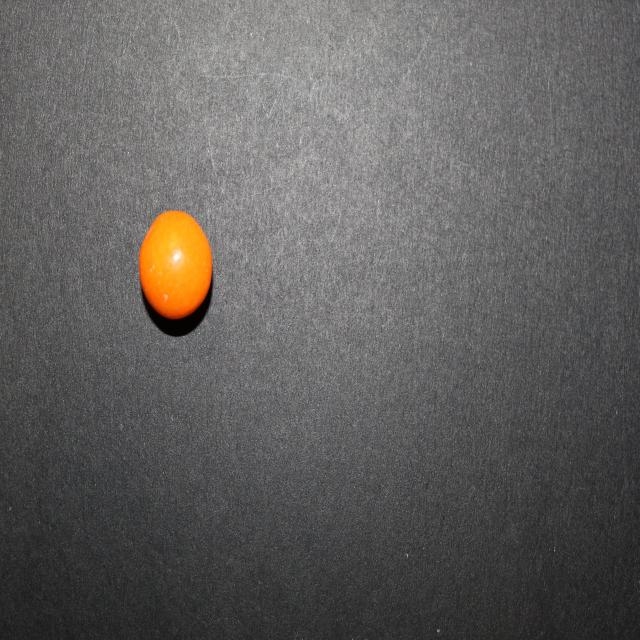smartie: (139, 210, 212, 319)
